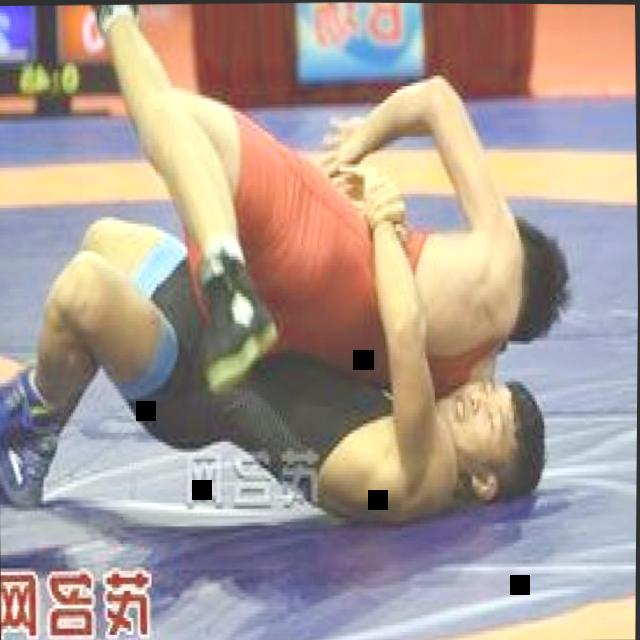Fall-Detected: (0, 0, 567, 516)
